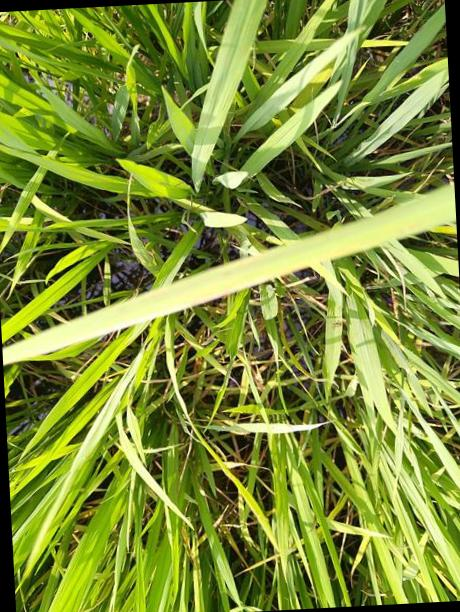Leaf Streak: (1, 187, 456, 364)
